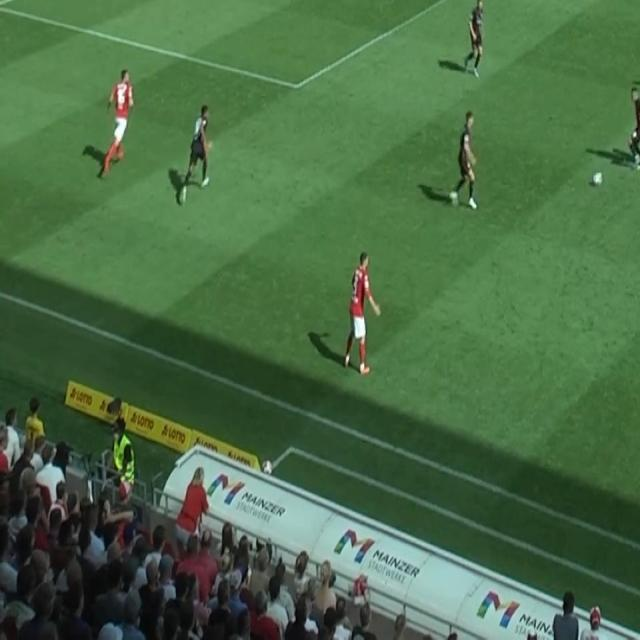ball: (592, 170, 602, 186)
